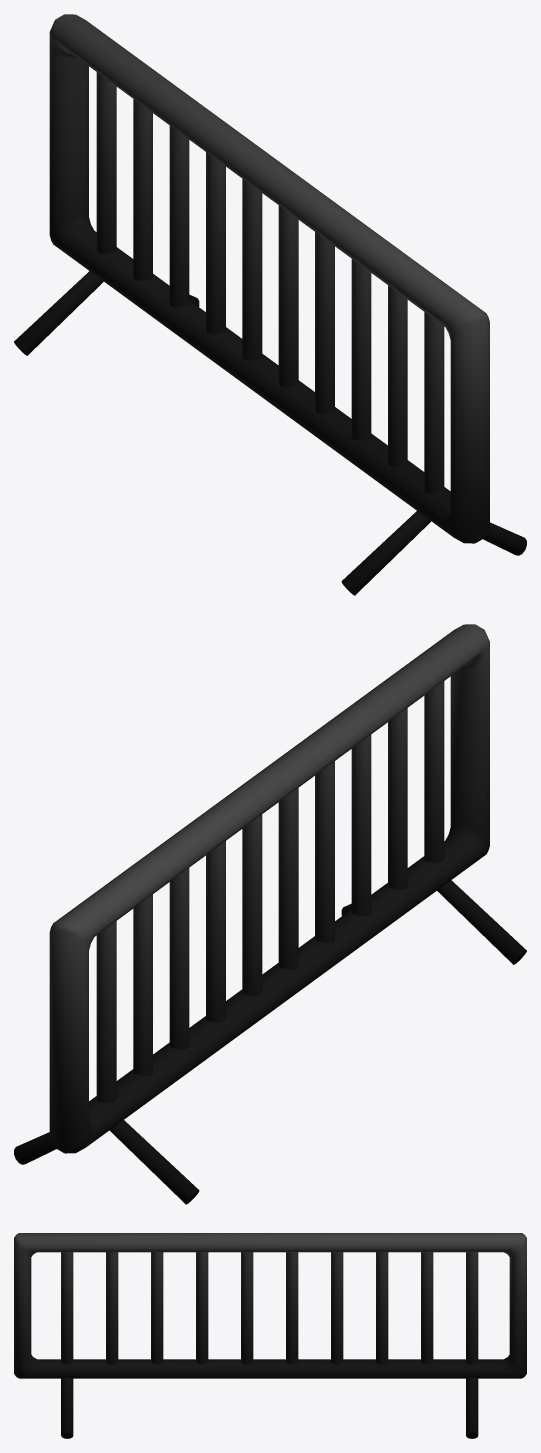
Rendered from SM_barier.fbx.
3 views of the same model, one above another, from view 1: azimuth 30°, elevation 25°; view 2: azimuth 150°, elevation 25°; view 3: azimuth 270°, elevation 25° (orthographic). The views are drawn at different scales.
Visible parts, largest first — view 1: barier; view 2: barier; view 3: barier.
Part boxes in pixels (left/top/right/bottom): barier: left=14, top=14, right=526, bottom=595; barier: left=14, top=624, right=526, bottom=1204; barier: left=14, top=1233, right=526, bottom=1438.
Bounding box in the file's own units: 74.09 × 113 × 293.
